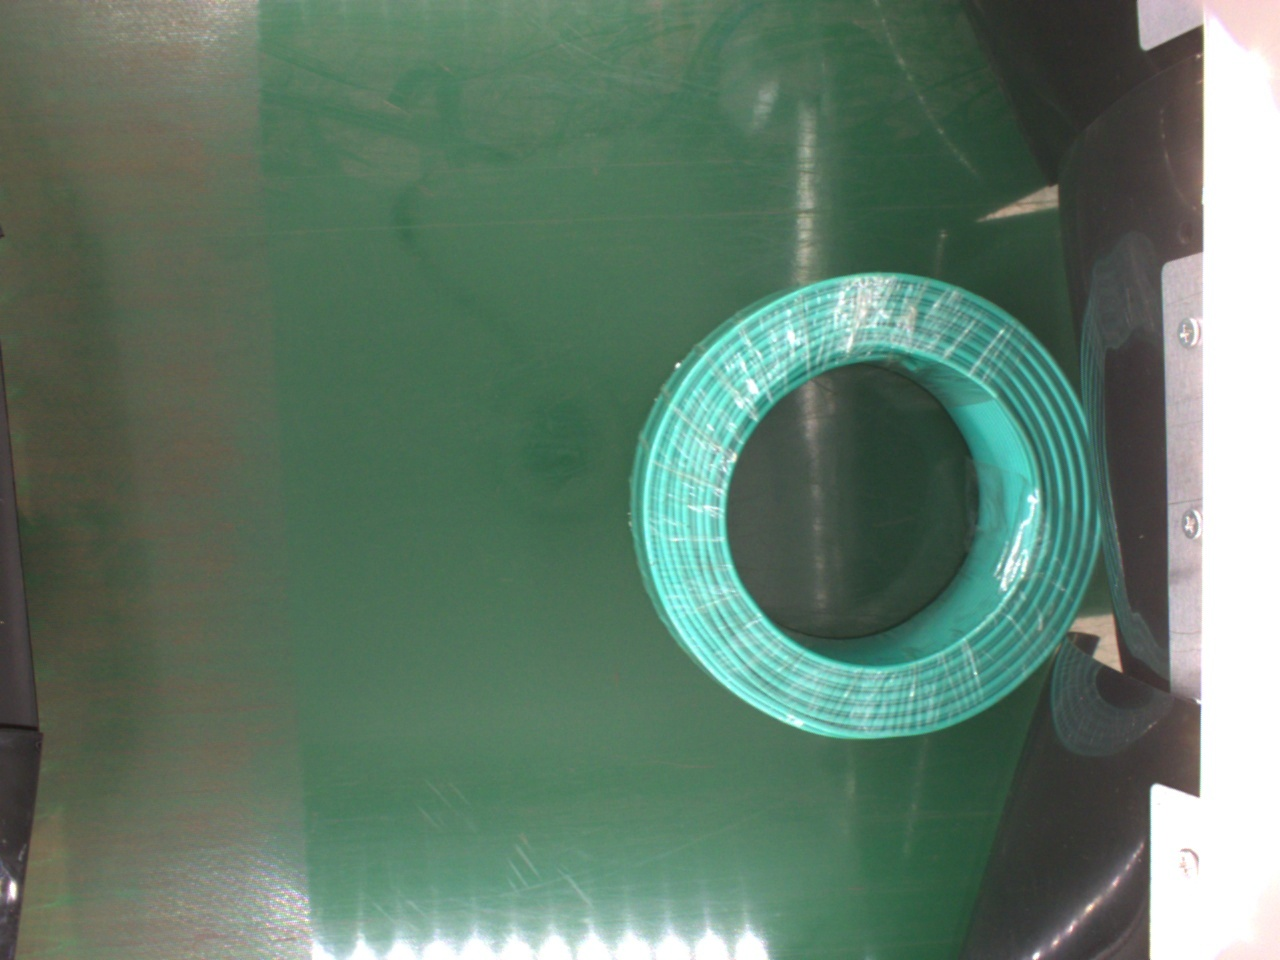green: (634, 273, 1104, 744)
